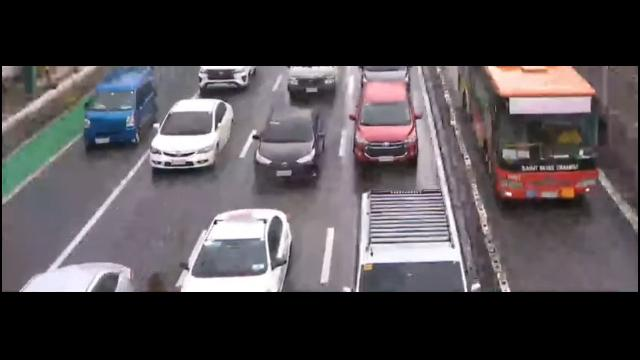bus: (456, 66, 607, 203)
car: (179, 207, 293, 292), (150, 97, 234, 171), (349, 80, 419, 167), (253, 105, 324, 189), (14, 261, 137, 291), (286, 66, 339, 98), (197, 66, 256, 92), (359, 65, 410, 85)
van: (353, 189, 475, 292), (81, 67, 157, 147)
